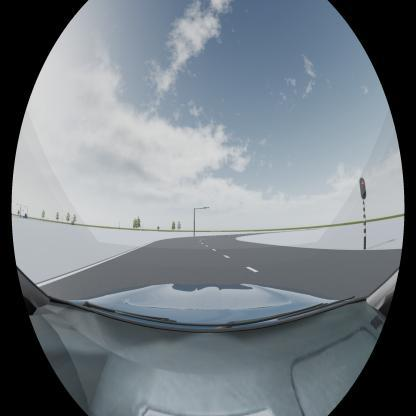Red Light: (359, 177, 366, 200)
